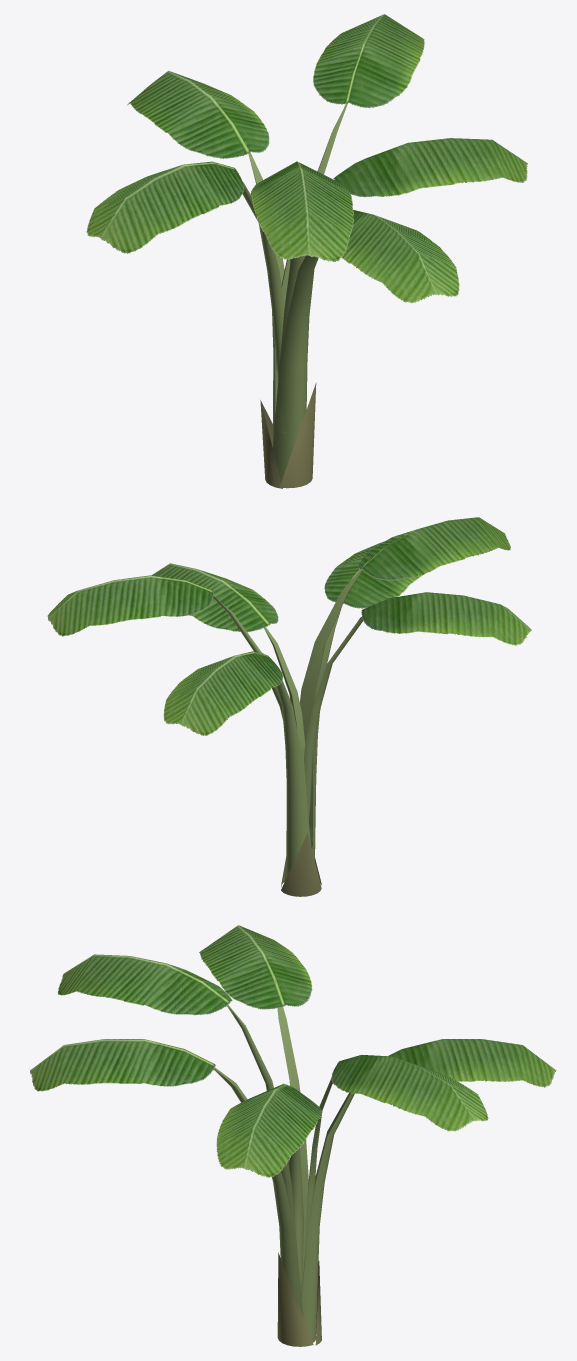
3 renders of one model, top to bottom at view 1: azimuth 30°, elevation 25°; view 2: azimuth 150°, elevation 25°; view 3: azimuth 270°, elevation 25°, orthographic. The views are drawn at different scales.
Visible parts, largest first — view 1: pasted__pPlane1 (×5), pPlane1, pCone1, pasted__pCone1 (×4), pasted__pCone2, pCone2; view 2: pasted__pPlane1 (×5), pasted__pCone1 (×5), pPlane1, pCone2, pCone1; view 3: pasted__pPlane1 (×5), pasted__pCone1 (×5), pPlane1, pCone1, pasted__pCone2.
Boxes of the visible parts, x1,y1,x2,y2 form: pasted__pPlane1 (×5): [86, 14, 527, 261]; pPlane1: [341, 210, 459, 303]; pCone1: [273, 255, 318, 481]; pasted__pCone1 (×4): [214, 90, 352, 447]; pasted__pCone2: [279, 382, 316, 488]; pCone2: [260, 400, 282, 488]; pasted__pPlane1 (×5): [47, 517, 531, 735]; pasted__pCone1 (×5): [213, 559, 389, 877]; pPlane1: [324, 541, 422, 608]; pCone2: [281, 833, 321, 896]; pCone1: [284, 608, 341, 881]; pasted__pPlane1 (×5): [58, 925, 556, 1177]; pasted__pCone1 (×5): [219, 978, 354, 1342]; pPlane1: [30, 1039, 215, 1091]; pCone1: [214, 1067, 303, 1317]; pasted__pCone2: [277, 1252, 313, 1346].
Bounding box in the file's own units: 14.66 × 9.89 × 14.13.
16 materials, 7 textured.
